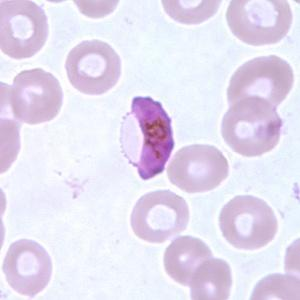Infected: (118, 94, 176, 181)
Uninfected: (227, 53, 294, 118), (221, 97, 282, 157), (219, 192, 280, 250), (166, 143, 230, 195), (225, 0, 294, 47), (131, 190, 190, 243), (64, 40, 121, 94), (11, 67, 64, 124), (0, 0, 51, 59), (3, 239, 54, 297), (163, 236, 216, 287), (190, 260, 232, 300)
